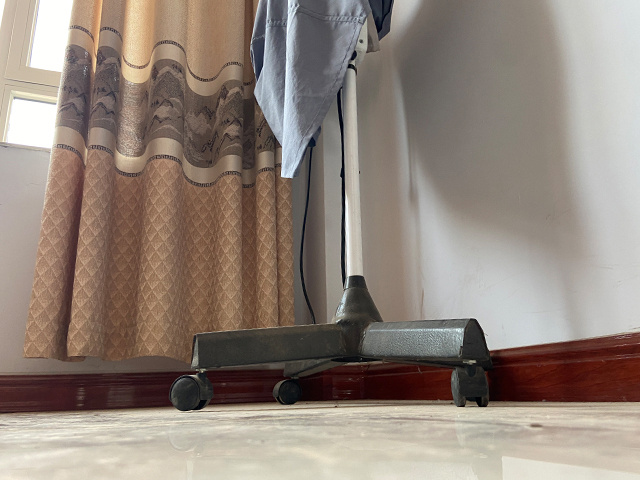curtain: (23, 1, 300, 363)
